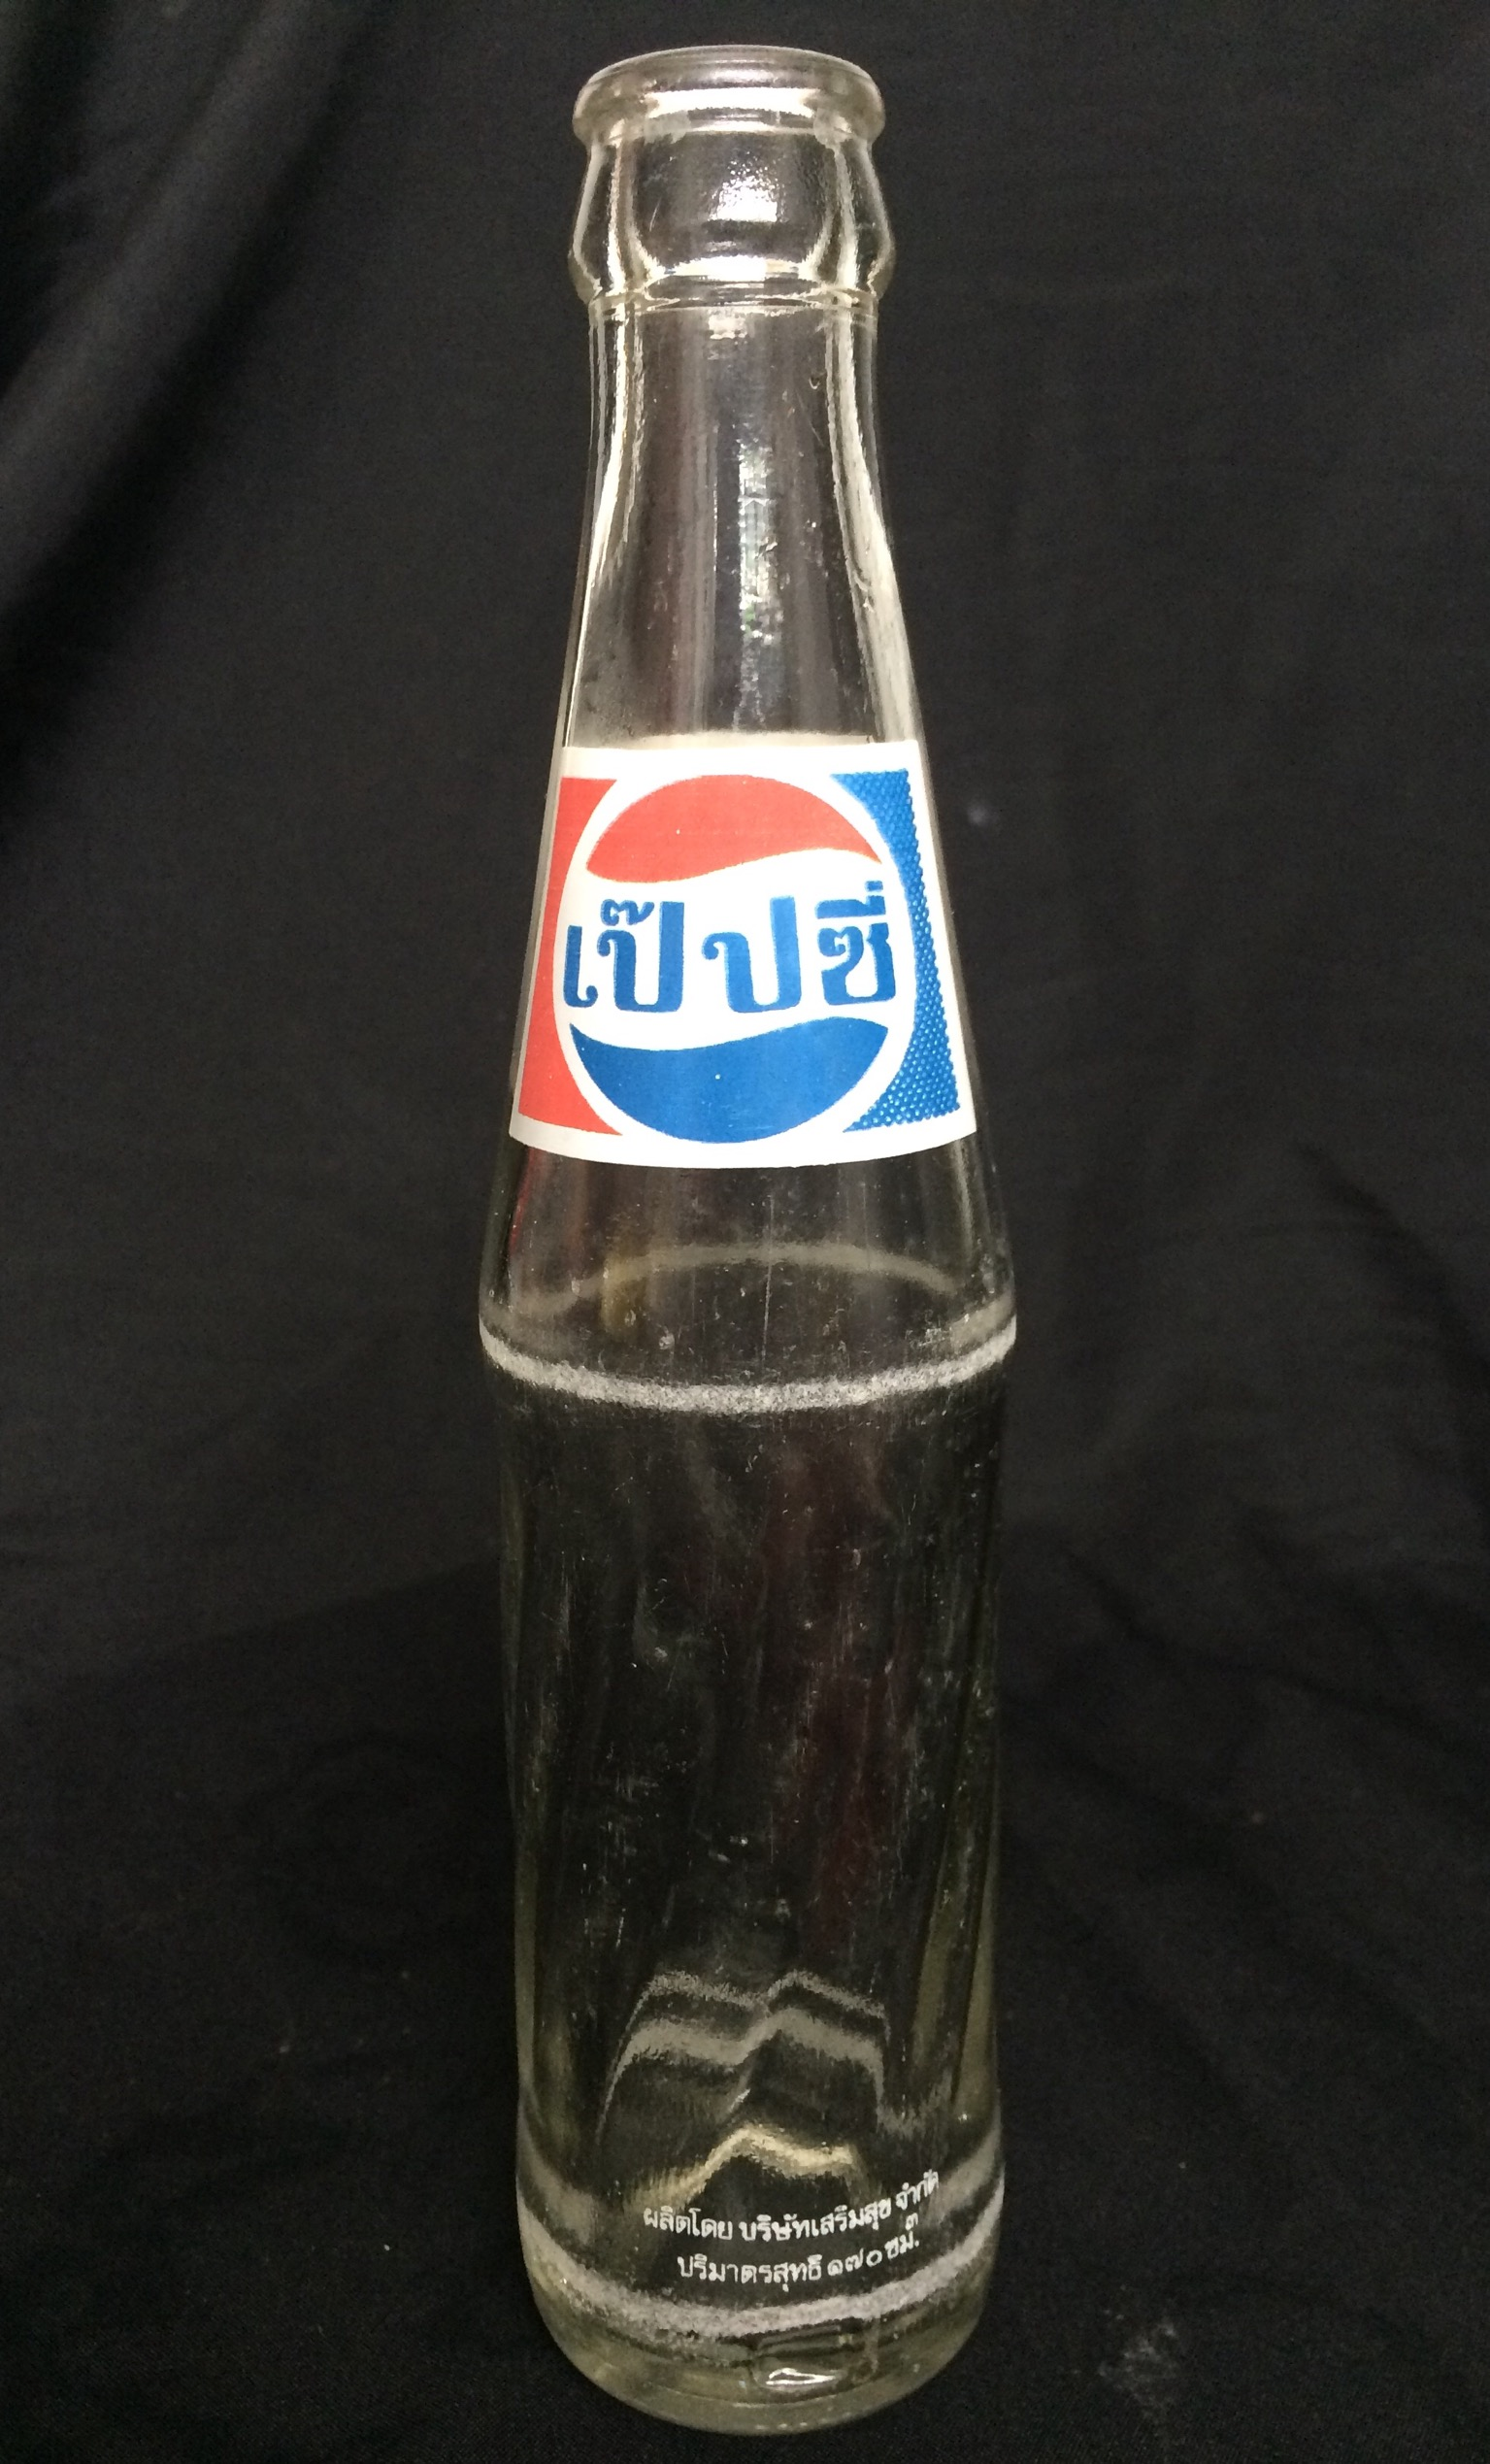glass_bottle: (399, 26, 1098, 2448)
